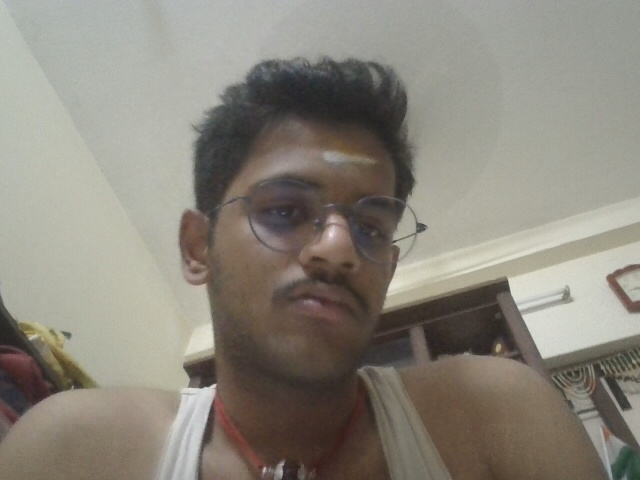real: (198, 113, 442, 357)
